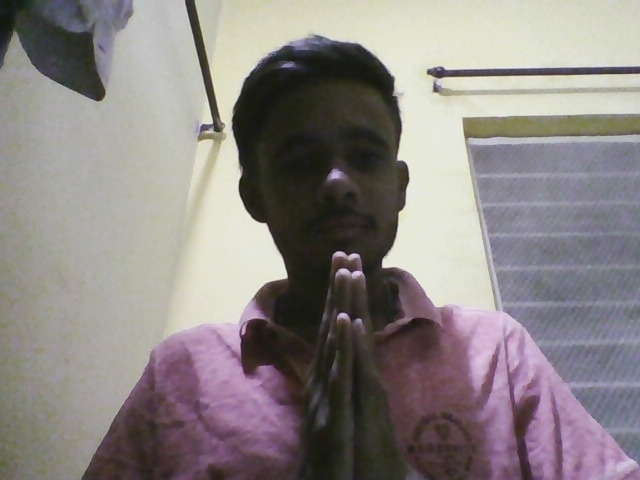thankyou: (312, 247, 391, 480)
